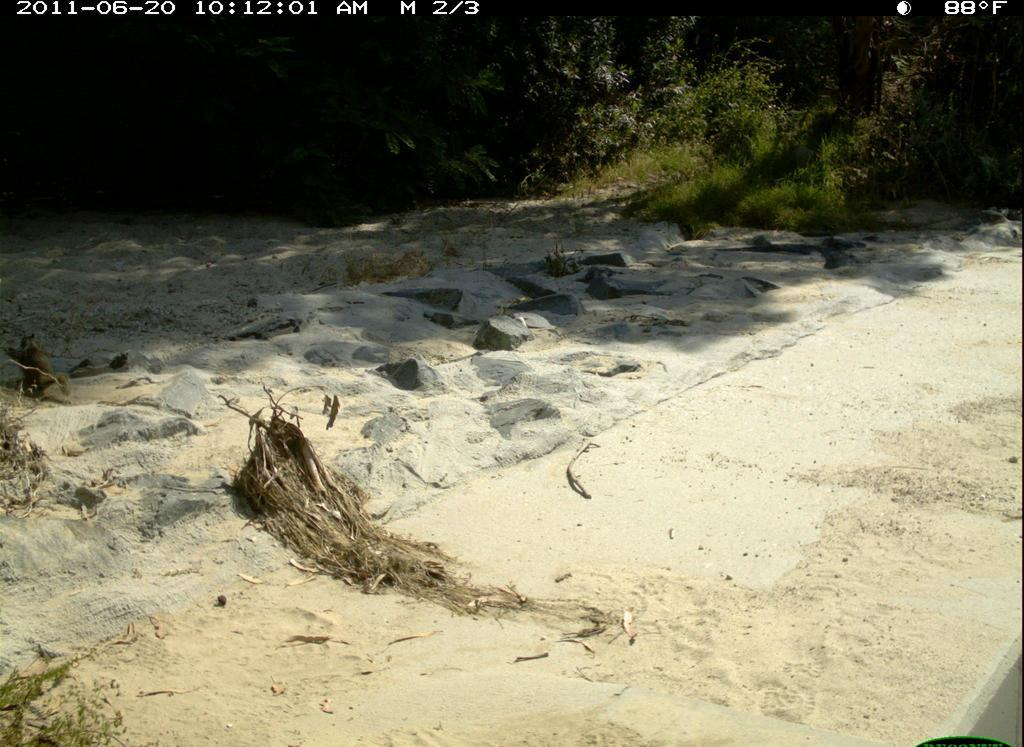squirrel: (15, 324, 81, 404)
